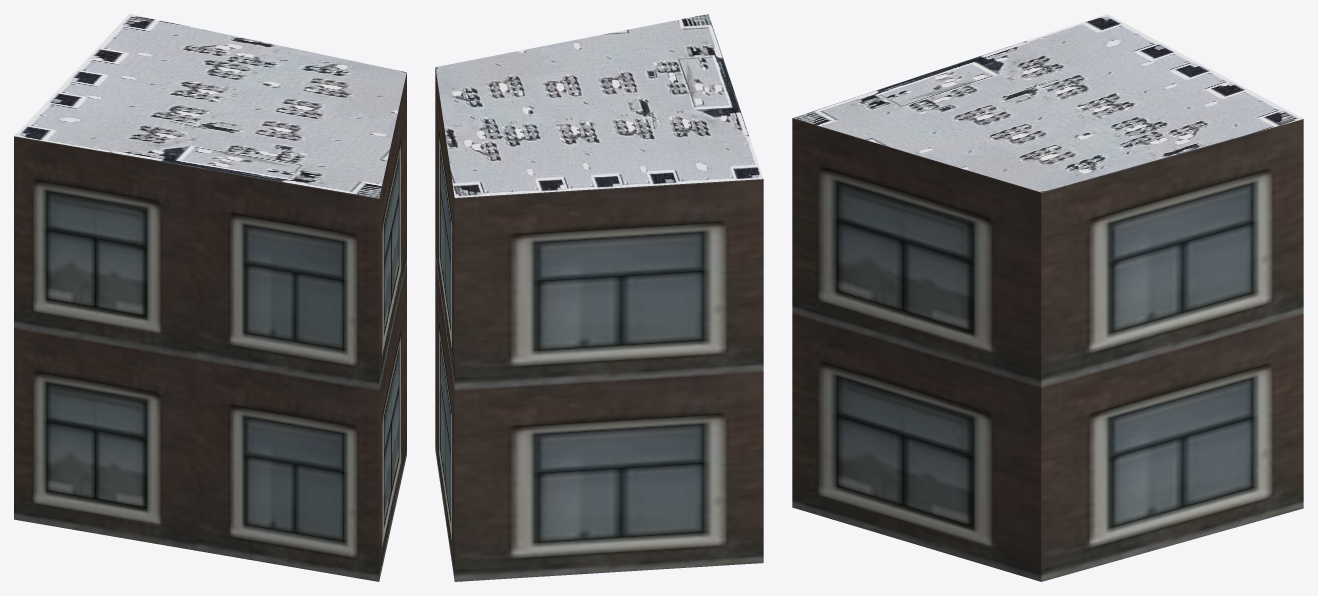
File: ResTex__3146.fbx
The picture shows the model from 3 angles, left to right: view 1: azimuth 30°, elevation 25°; view 2: azimuth 150°, elevation 25°; view 3: azimuth 270°, elevation 25°; orthographic projection.
Visible parts, largest first — view 1: CityEngineMaterial_16_m, CityEngineMaterial_15_m; view 2: CityEngineMaterial_16_m, CityEngineMaterial_15_m; view 3: CityEngineMaterial_16_m, CityEngineMaterial_15_m.
Boxes of the visible parts, x1,y1,x2,y2 form: CityEngineMaterial_16_m: [14, 72, 406, 581]; CityEngineMaterial_15_m: [14, 14, 406, 198]; CityEngineMaterial_16_m: [435, 67, 763, 581]; CityEngineMaterial_15_m: [435, 14, 763, 197]; CityEngineMaterial_16_m: [792, 118, 1303, 581]; CityEngineMaterial_15_m: [793, 14, 1302, 192].
Bounding box in the file's own units: 5.9 × 6 × 7.14.
Materials: 2 (2 with a texture image).
